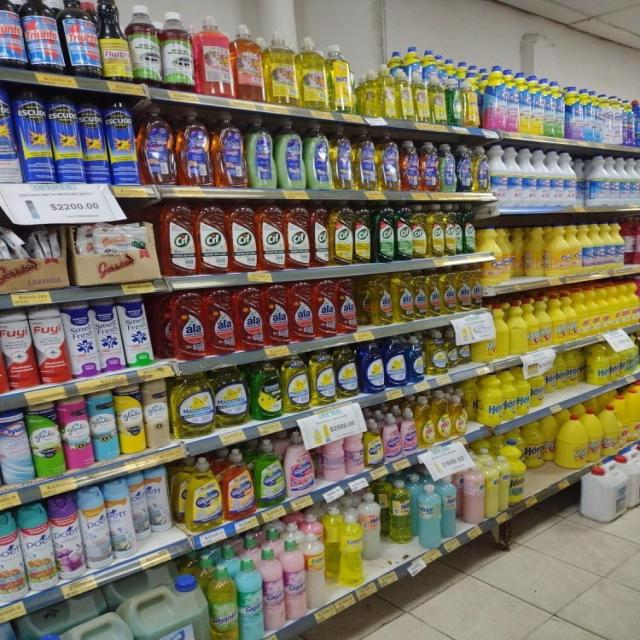ala_conc_amarillo: (371, 273, 393, 325), (393, 272, 413, 322), (413, 269, 427, 320), (456, 266, 471, 312), (441, 266, 455, 315), (427, 268, 440, 318), (471, 266, 482, 310)
ala_conc_rojo: (168, 290, 205, 360), (206, 287, 234, 356), (236, 285, 263, 351), (264, 283, 288, 346), (289, 281, 313, 342), (314, 278, 336, 338), (337, 278, 357, 334)
ala_crem_amarillo: (485, 457, 498, 519)
ala_crem_rosado: (462, 462, 484, 524)
cif_conc_bot_amarilla: (331, 200, 353, 266), (353, 200, 372, 264), (411, 204, 427, 259), (428, 204, 443, 258), (445, 204, 459, 256)
cif_conc_botella_roja: (160, 200, 196, 276), (197, 200, 227, 276), (229, 199, 257, 273), (258, 198, 285, 272), (286, 198, 310, 270), (310, 199, 330, 268)
cif_conc_botella_verde: (374, 201, 395, 262), (395, 202, 411, 261), (463, 204, 476, 255)
gigante: (209, 563, 238, 640), (285, 521, 306, 623), (239, 557, 263, 640), (264, 543, 284, 631), (383, 413, 401, 460)
heroe: (416, 481, 441, 548), (362, 493, 383, 561), (441, 475, 458, 539)
magistral_con_amarillo: (181, 456, 222, 532), (172, 373, 214, 438), (215, 366, 249, 426), (283, 354, 309, 413), (310, 349, 335, 406), (336, 345, 358, 399), (427, 330, 446, 375), (456, 327, 470, 366), (448, 328, 458, 370)
magistral_con_azul: (360, 341, 384, 394), (385, 337, 407, 388), (408, 335, 424, 383)
odex: (418, 394, 434, 448), (434, 391, 450, 442), (366, 418, 382, 468), (452, 392, 468, 437)
zorro: (177, 108, 211, 186), (213, 111, 245, 189), (247, 114, 275, 190), (276, 118, 304, 189), (306, 120, 331, 190), (355, 127, 377, 190), (332, 124, 353, 190), (379, 130, 399, 191), (400, 140, 420, 192), (421, 142, 438, 192), (439, 143, 456, 192), (457, 144, 472, 192)
